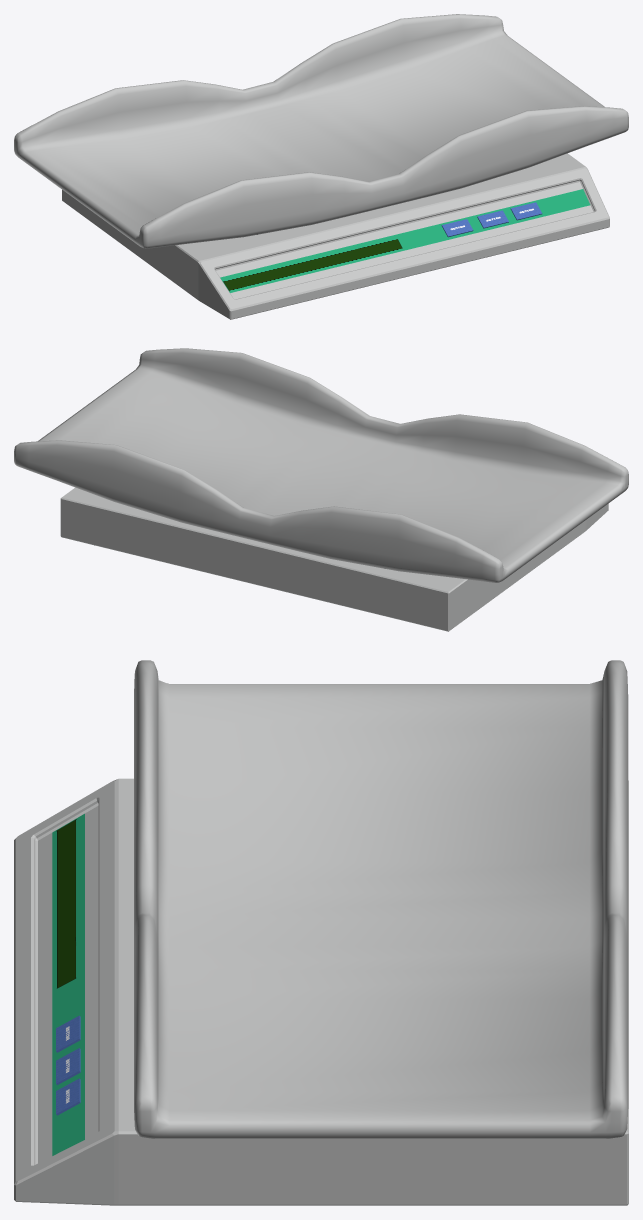
File: Newborn_weighing-machine.fbx
3 views of the same model, one above another, from view 1: azimuth 30°, elevation 25°; view 2: azimuth 150°, elevation 25°; view 3: azimuth 270°, elevation 25° (orthographic). The views are drawn at different scales.
Visible parts, largest first — view 1: Newborn_weighing-machine; view 2: Newborn_weighing-machine; view 3: Newborn_weighing-machine.
Boxes of the visible parts, box(x1,y1,x2,y2) form: Newborn_weighing-machine: box(14, 14, 628, 319); Newborn_weighing-machine: box(14, 348, 628, 631); Newborn_weighing-machine: box(14, 660, 628, 1205).
Size of the model in its own units: 51.14 by 11.06 by 30.
